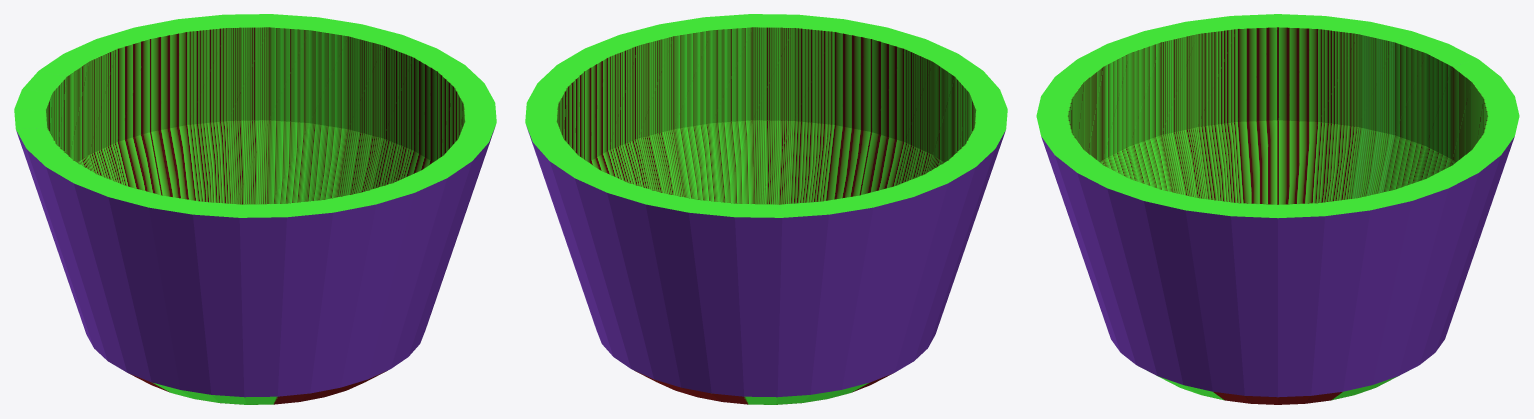
The model's file is BSDF.fbx.
The picture shows the model from 3 angles, left to right: view 1: azimuth 30°, elevation 25°; view 2: azimuth 150°, elevation 25°; view 3: azimuth 270°, elevation 25°; orthographic projection.
Visible parts, largest first — view 1: Cylinder; view 2: Cylinder; view 3: Cylinder.
Part boxes in pixels (x1,y1,x2,y2): Cylinder: (14,14,496,404); Cylinder: (525,14,1007,404); Cylinder: (1036,14,1519,404).
Bounding box in the file's own units: 200 × 200 × 105.
Materials: 1 (1 with a texture image).
